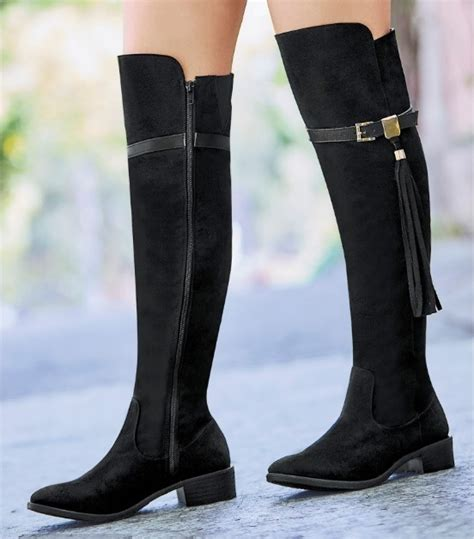gamuza: (29, 22, 450, 516)
